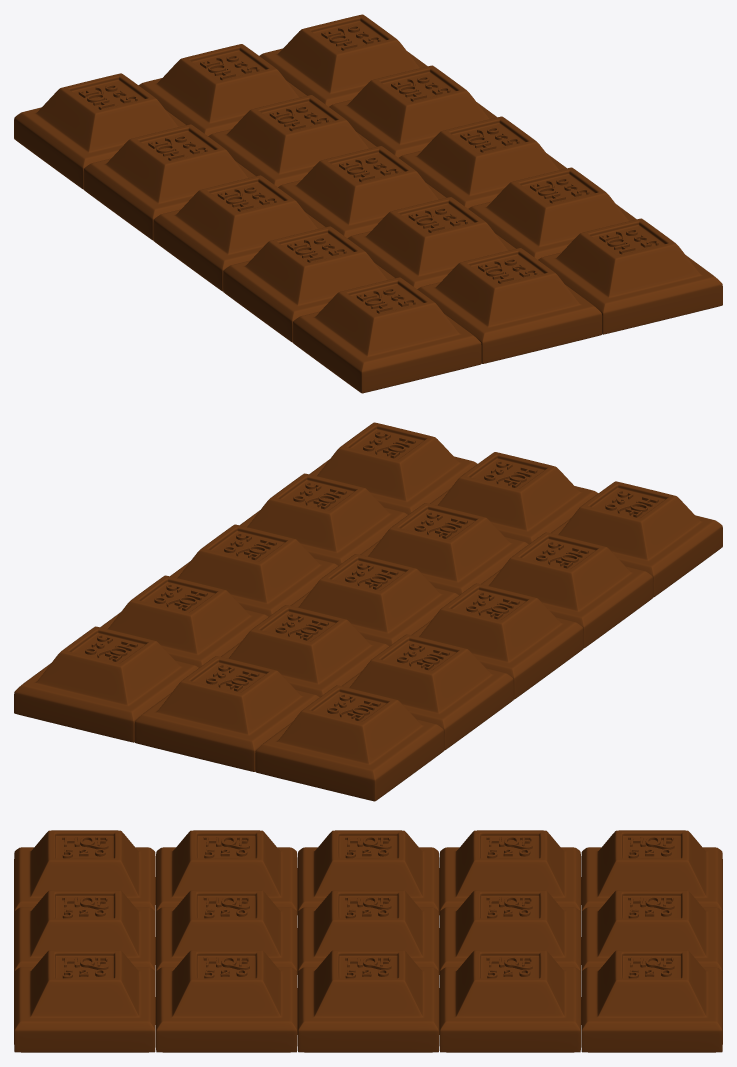
File: chocolate.glb
3 views of the same model, one above another, from view 1: azimuth 30°, elevation 25°; view 2: azimuth 150°, elevation 25°; view 3: azimuth 270°, elevation 25° (orthographic).
Size of what is drawn, in the model's own units: 1.32 by 0.1987 by 2.2.
